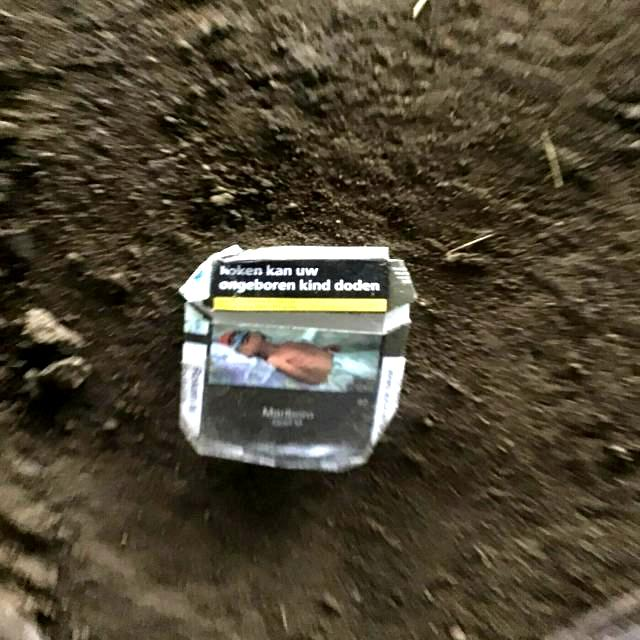Paper: (176, 241, 420, 477)
